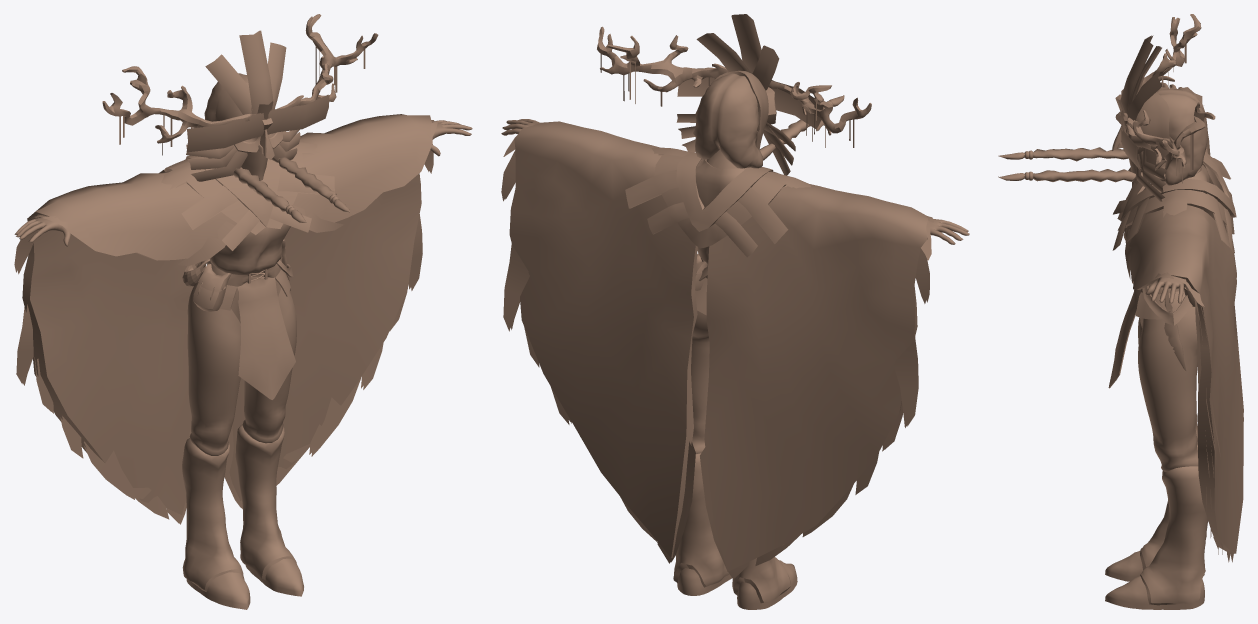
File: Sika.FBX
3 renders of one model, left to right at view 1: azimuth 30°, elevation 25°; view 2: azimuth 150°, elevation 25°; view 3: azimuth 270°, elevation 25°, orthographic. The views are drawn at different scales.
Parts seen in each view (by area): view 1: Sika_Bag_low; view 2: Sika_Bag_low; view 3: Sika_Bag_low.
Boxes of the visible parts, x1,y1,x2,y2 form: Sika_Bag_low: (14,14,472,609); Sika_Bag_low: (501,14,969,609); Sika_Bag_low: (998,14,1243,609).
Bounding box in the file's own units: 61.68 × 72.04 × 29.25.
